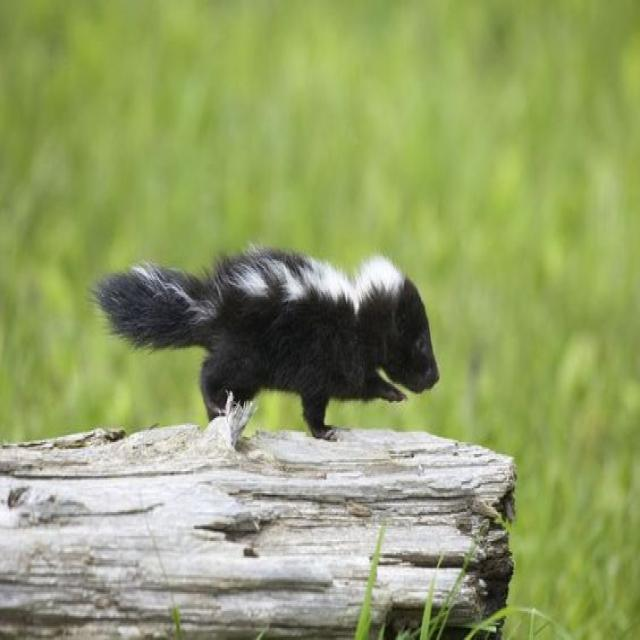Skunk: (80, 214, 452, 435)
